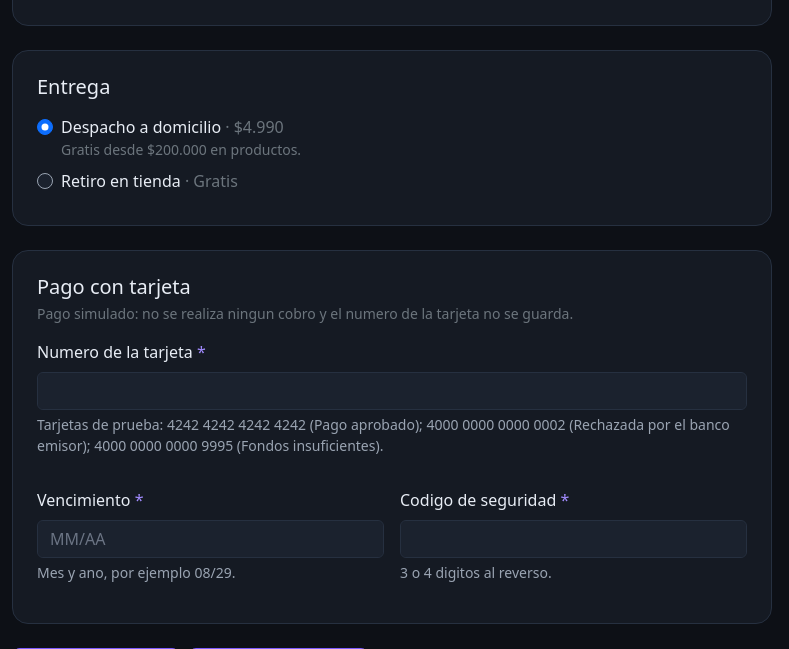
Test: Checkout › invitado › rechaza una tarjeta vencida
This screenshot has width=789, height=649.
(page scrolled)
Type "0120" into the field labelled "Vencimiento *" at {"x": 210, "y": 539}, box [37,520,384,558]
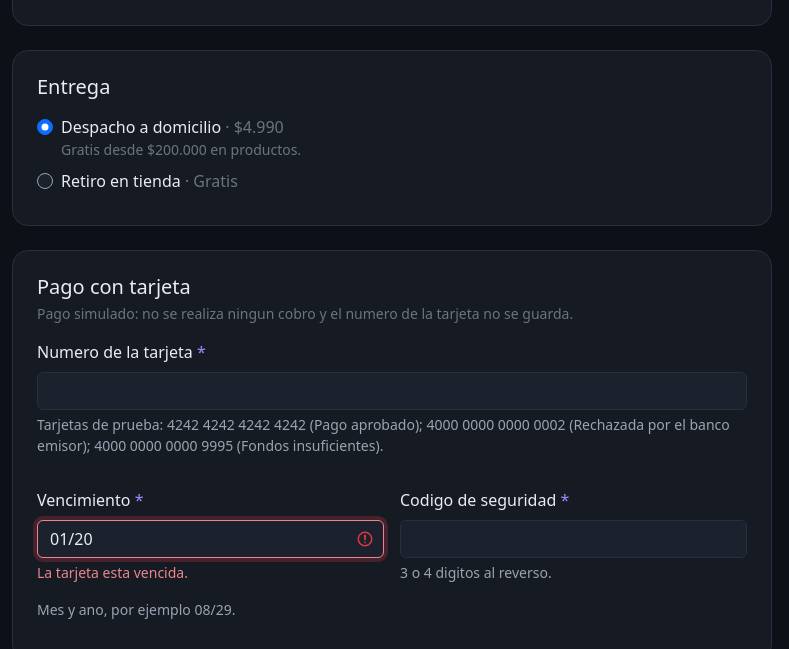
Check: the text "La tarjeta esta vencida." is shown, box [37,563,188,582]
